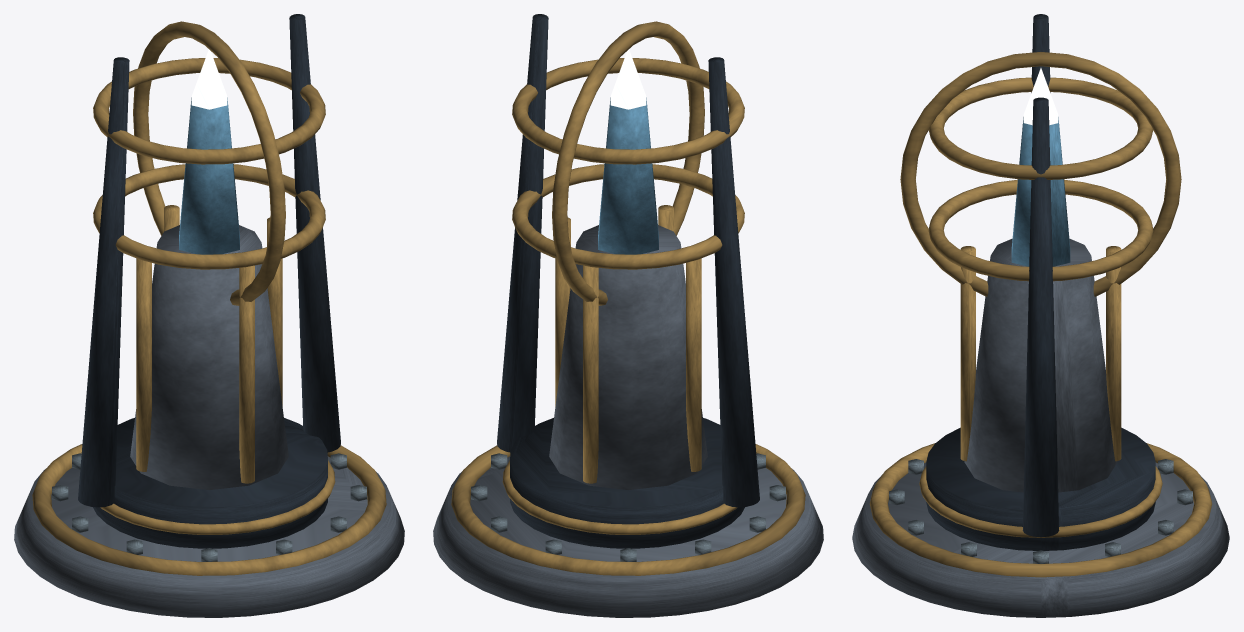
File: tower_amp_1.glb
The picture shows the model from 3 angles, left to right: view 1: azimuth 30°, elevation 25°; view 2: azimuth 150°, elevation 25°; view 3: azimuth 270°, elevation 25°; orthographic projection. The views are drawn at different scales.
Visible parts, largest first — view 1: Weathered_granite, Forged_black_iron.001, Antique_brass.001, Antique_brass, Forged_black_iron, Blue_glacial_ice, Weathered_blue_steel, Soul_light; view 2: Weathered_granite, Forged_black_iron.001, Antique_brass.001, Antique_brass, Forged_black_iron, Blue_glacial_ice, Weathered_blue_steel, Soul_light; view 3: Weathered_granite, Antique_brass.001, Antique_brass, Forged_black_iron, Forged_black_iron.001, Blue_glacial_ice, Weathered_blue_steel, Soul_light.
Part boxes in pixels (x1,y1,x2,y2): Weathered_granite: (14,225,404,617); Forged_black_iron.001: (78,14,340,507); Antique_brass.001: (93,21,325,305); Antique_brass: (32,205,386,575); Forged_black_iron: (93,418,327,548); Blue_glacial_ice: (179,97,239,254); Weathered_blue_steel: (52,453,366,561); Soul_light: (191,49,227,109); Weathered_granite: (433,225,823,617); Forged_black_iron.001: (497,14,759,507); Antique_brass.001: (512,21,744,305); Antique_brass: (451,205,805,575); Forged_black_iron: (510,418,744,548); Blue_glacial_ice: (598,97,658,254); Weathered_blue_steel: (471,453,785,561); Soul_light: (610,49,646,109); Weathered_granite: (852,238,1229,617); Antique_brass.001: (900,52,1181,296); Antique_brass: (869,246,1212,577); Forged_black_iron: (926,427,1155,550); Forged_black_iron.001: (1022,14,1059,537); Blue_glacial_ice: (1011,117,1070,266); Weathered_blue_steel: (889,459,1192,563); Soul_light: (1023,68,1058,125).
Bounding box in the file's own units: 2.7 × 3.84 × 2.7.
6 materials, 5 textured.
